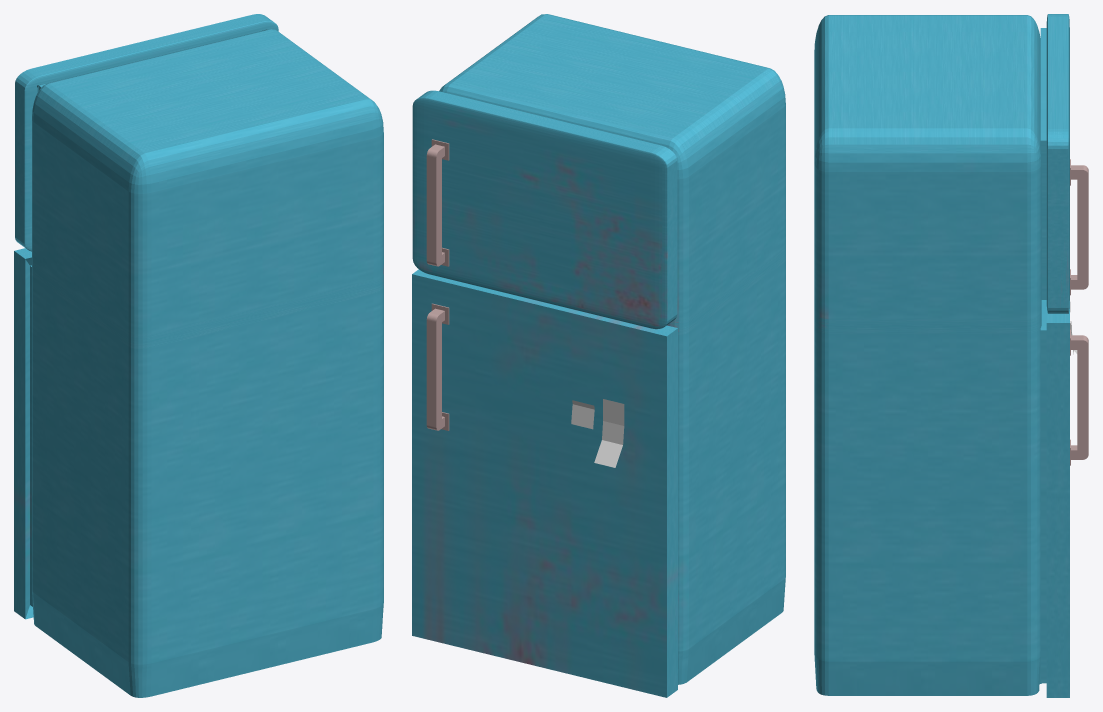
The model's file is Fridge.fbx.
3 views of the same model, side by side, from view 1: azimuth 30°, elevation 25°; view 2: azimuth 150°, elevation 25°; view 3: azimuth 270°, elevation 25° (orthographic). The views are drawn at different scales.
Visible parts, largest first — view 1: Plane; view 2: Plane; view 3: Plane.
Boxes of the visible parts, left/top/right/bottom form: Plane: left=14, top=14, right=383, bottom=697; Plane: left=412, top=14, right=785, bottom=697; Plane: left=814, top=14, right=1088, bottom=697.
Size of the model in its own units: 92.12 by 186 by 82.34.
Materials: 4 (2 with a texture image).
